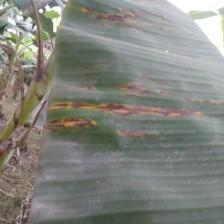sigatoka: (34, 0, 224, 224)
